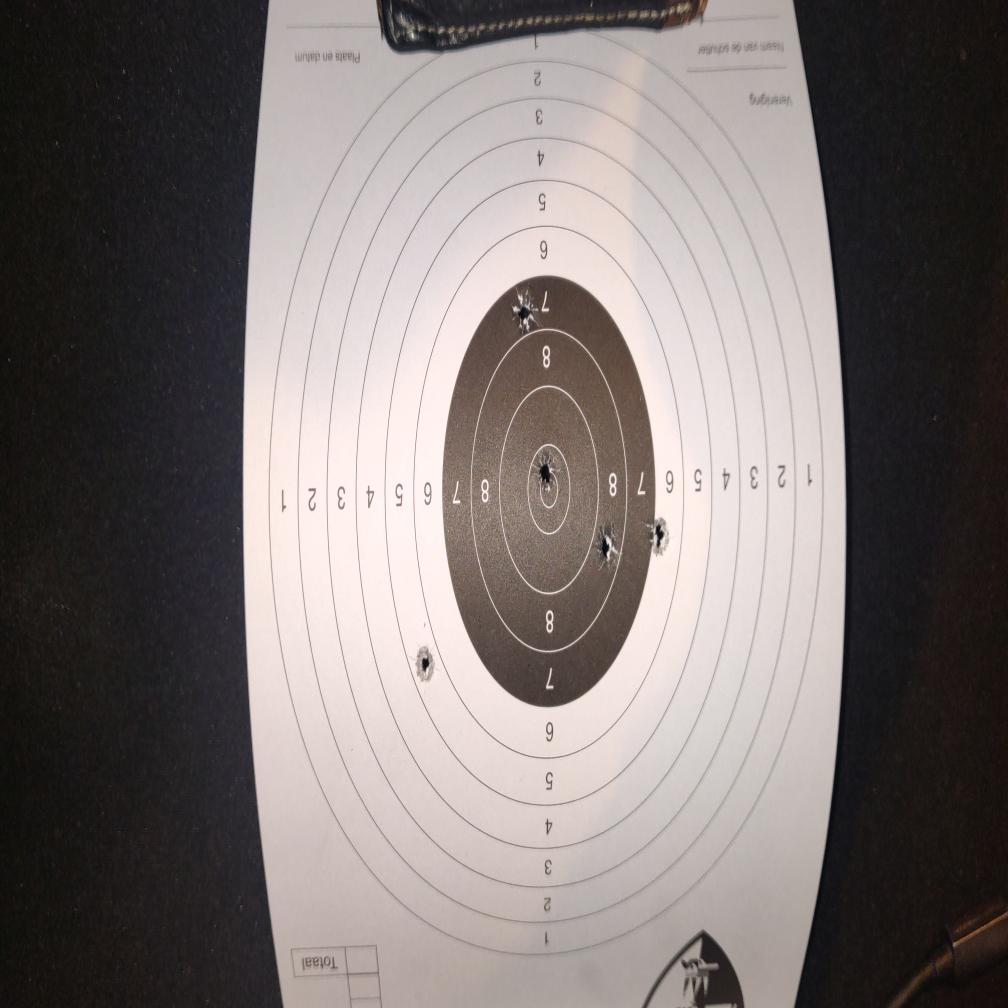10: (532, 446, 562, 496)
5: (413, 642, 437, 686)
7: (510, 280, 540, 340), (646, 513, 671, 558)
8: (592, 514, 621, 574)
Target: (266, 20, 826, 959)
black_contour: (442, 278, 656, 709)
